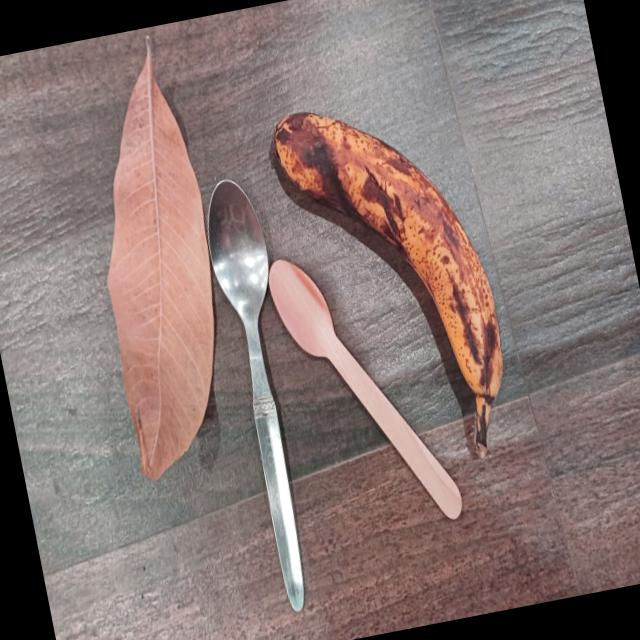Banana-Bio: (259, 48, 526, 489)
Leaf-Bio: (40, 23, 256, 488)
Steel-NonBio: (190, 165, 338, 614)
Wooden Spoon-Bio: (259, 231, 474, 538)
